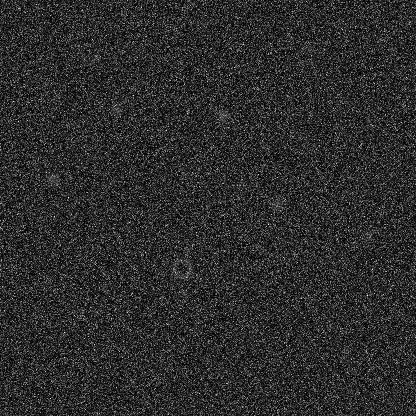Ring: (42, 146, 66, 170), (169, 256, 193, 280), (293, 43, 317, 67), (76, 41, 100, 65), (42, 79, 66, 103)
Spot: (213, 107, 229, 123), (45, 170, 61, 186), (360, 226, 376, 242), (107, 100, 123, 116), (232, 176, 248, 192), (270, 195, 286, 211), (174, 284, 190, 300)
